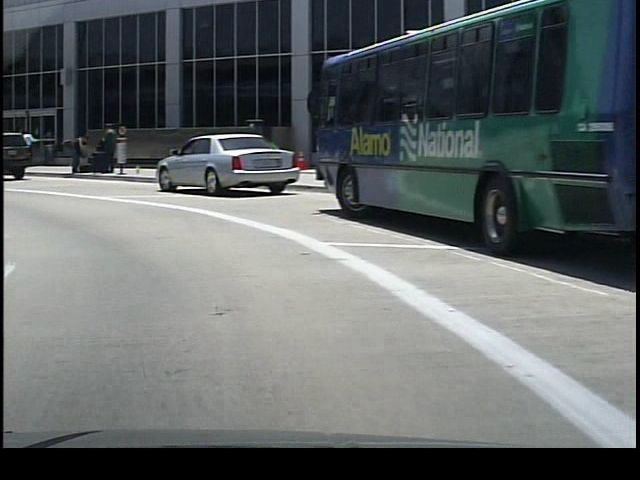person: (57, 125, 87, 179), (94, 122, 116, 176)
